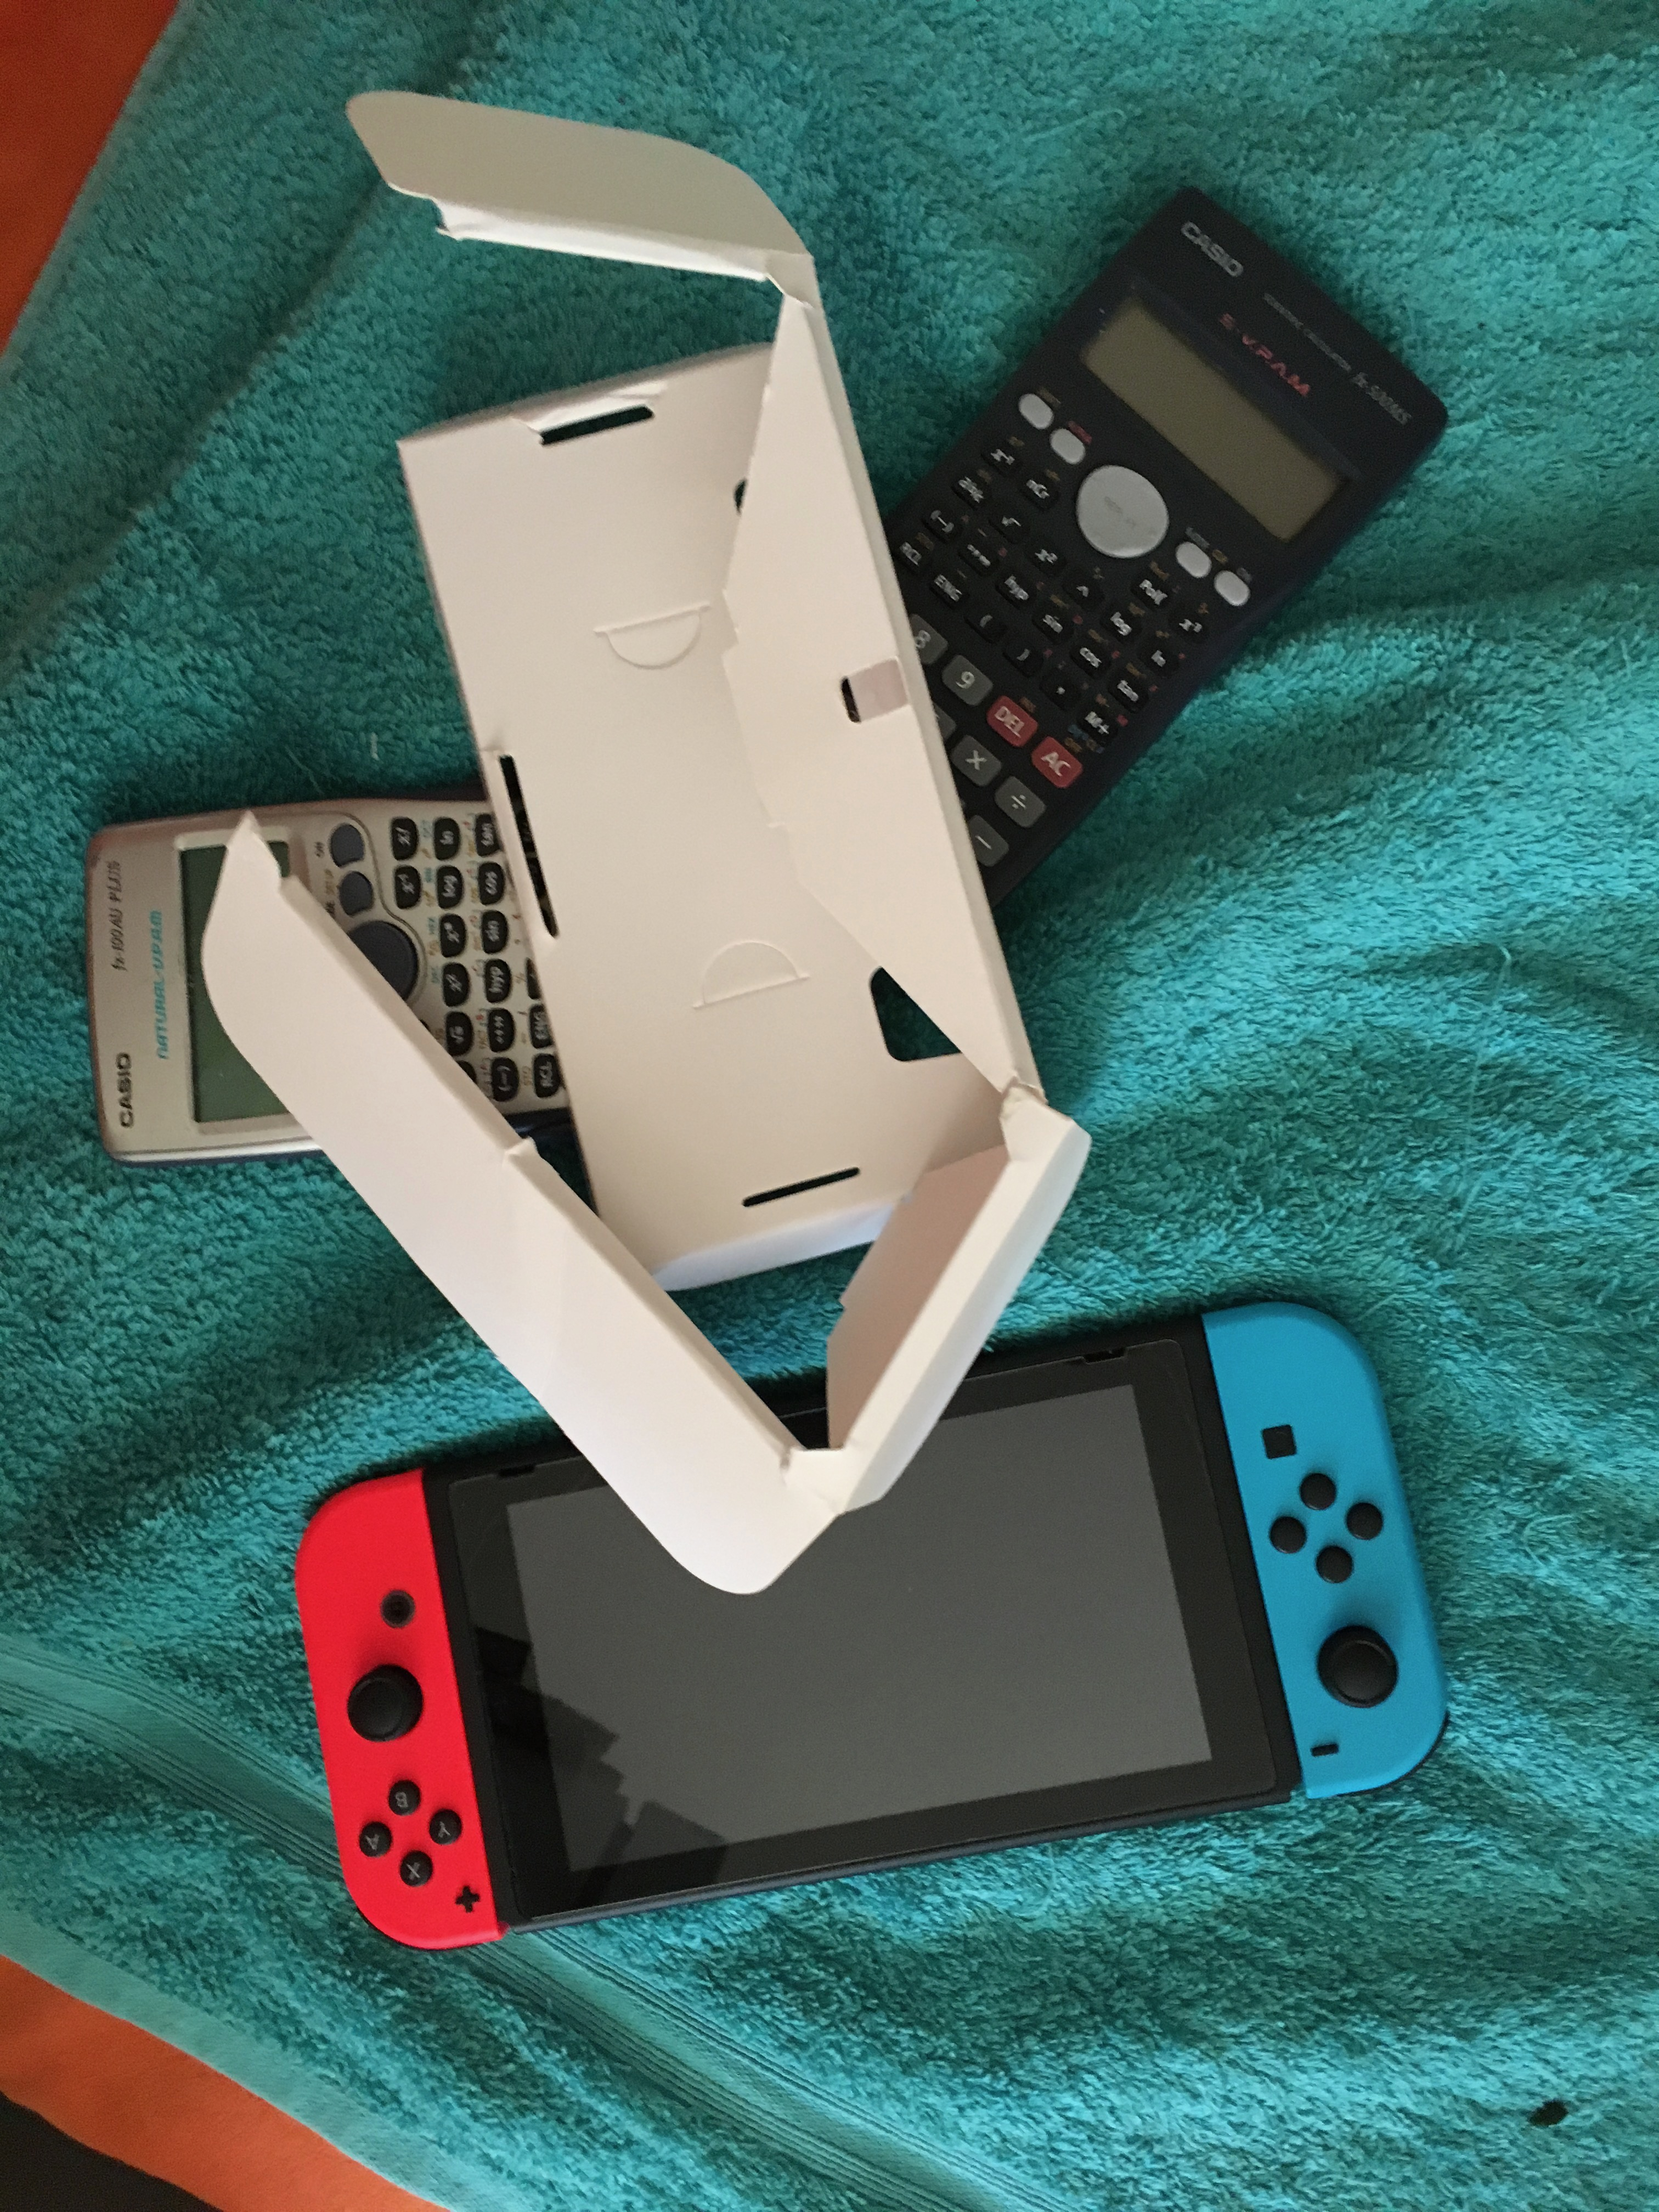Calculator: (880, 183, 1450, 937), (82, 786, 591, 1167)
NintendoSwitch: (289, 1298, 1448, 1959)
